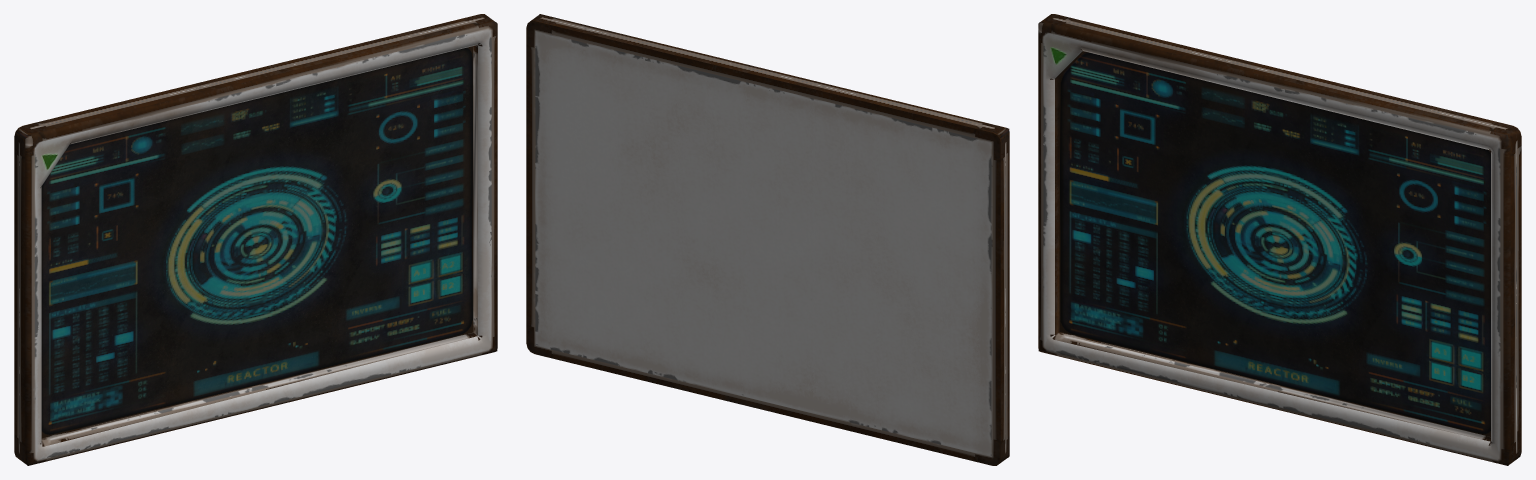
File: tab-compressed.glb
The picture shows the model from 3 angles, left to right: view 1: azimuth 30°, elevation 25°; view 2: azimuth 150°, elevation 25°; view 3: azimuth 330°, elevation 25°; orthographic projection.
Parts seen in each view (by area): view 1: Object_2; view 2: Object_2; view 3: Object_2.
Boxes of the visible parts, box(x1,y1,x2,y2) form: Object_2: box(14, 14, 497, 465); Object_2: box(526, 14, 1009, 465); Object_2: box(1038, 14, 1521, 465).
Bounding box in the file's own units: 29.88 × 20.05 × 1.32.
1 material, 1 textured.
